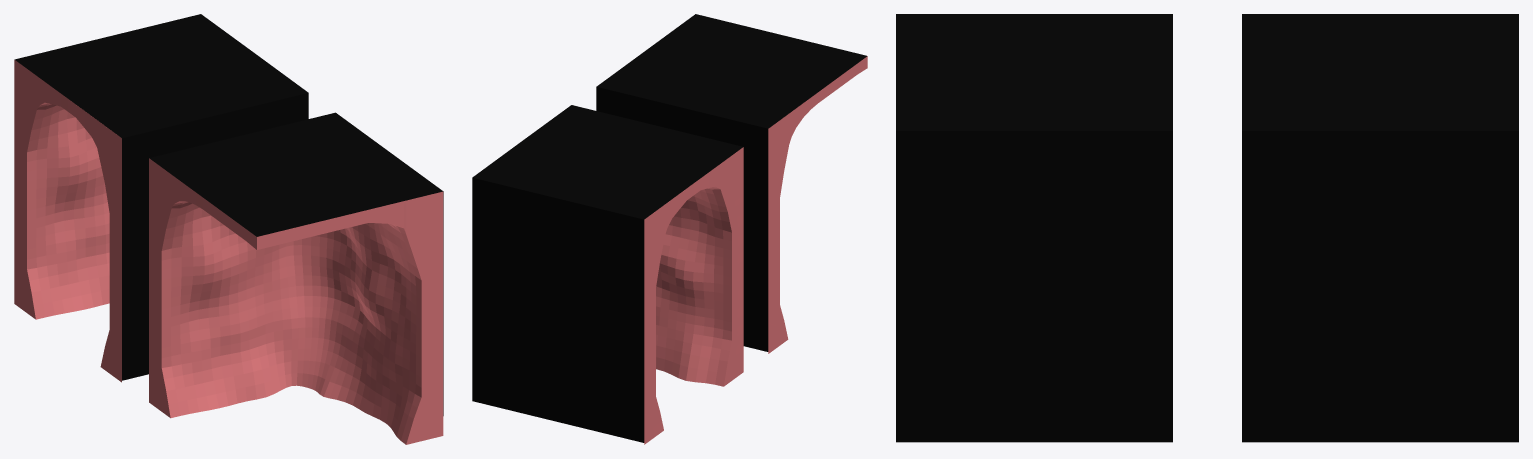
The model's file is 10-CaveWall_DeadEnd_And_Turn.fbx.
The picture shows the model from 3 angles, left to right: view 1: azimuth 30°, elevation 25°; view 2: azimuth 150°, elevation 25°; view 3: azimuth 270°, elevation 25°; orthographic projection. The views are drawn at different scales.
Parts seen in each view (by area): view 1: CaveTileTurn, CaveTileDeadEndLightStopper, CaveTileDeadEnd, CaveTileTurnLightStopper; view 2: CaveTileDeadEndLightStopper, CaveTileTurnLightStopper, CaveTileDeadEnd, CaveTileTurn; view 3: CaveTileDeadEndLightStopper, CaveTileTurnLightStopper.
Part boxes in pixels (x1,y1,x2,y2): CaveTileTurn: (149,158,443,444); CaveTileDeadEndLightStopper: (14,14,308,380); CaveTileDeadEnd: (14,60,121,382); CaveTileTurnLightStopper: (149,112,443,415); CaveTileDeadEndLightStopper: (472,105,742,442); CaveTileTurnLightStopper: (596,14,867,351); CaveTileDeadEnd: (644,147,743,444); CaveTileTurn: (768,56,867,353); CaveTileDeadEndLightStopper: (1242,14,1518,442); CaveTileTurnLightStopper: (896,14,1172,442).
Size of the model in its own units: 400 by 501 by 900.
